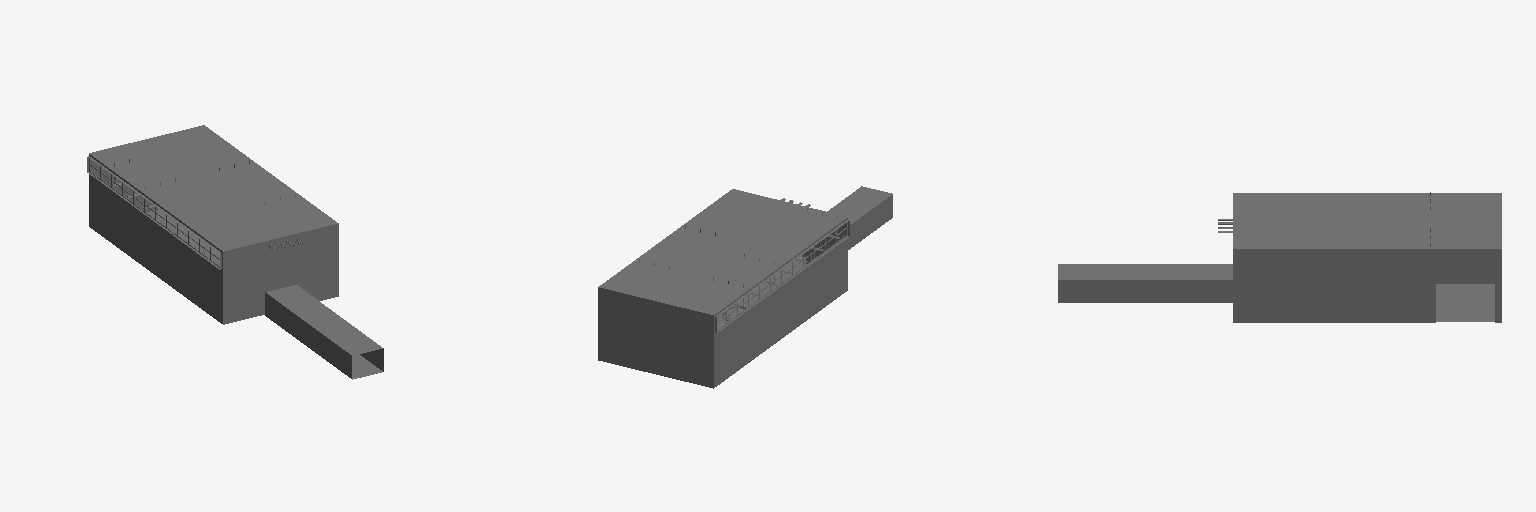
The model's file is level_1_all_v3.obj.
3 renders of one model, left to right at view 1: azimuth 30°, elevation 25°; view 2: azimuth 150°, elevation 25°; view 3: azimuth 270°, elevation 25°, orthographic.
Parts seen in each view (by area): view 1: polySurface1769; view 2: polySurface1769; view 3: polySurface1769.
Boxes of the visible parts, box(x1,y1,x2,y2) form: polySurface1769: box(87, 125, 383, 379); polySurface1769: box(598, 186, 892, 388); polySurface1769: box(1058, 192, 1501, 322).
Bounding box in the file's own units: 96.1 × 60.82 × 312.